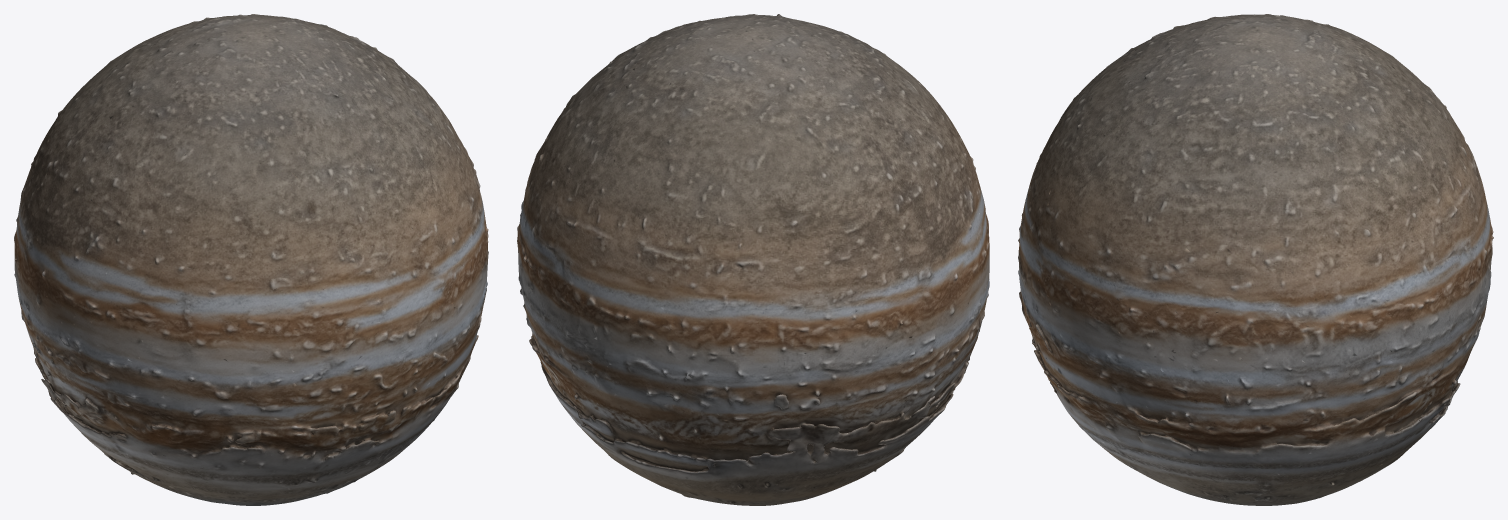
File: jupiter.glb
3 views of the same model, side by side, from view 1: azimuth 30°, elevation 25°; view 2: azimuth 150°, elevation 25°; view 3: azimuth 270°, elevation 25° (orthographic).
Parts seen in each view (by area): view 1: world; view 2: world; view 3: world.
Boxes of the visible parts, <box> form: world: <box>14,14,488,505</box>; world: <box>517,14,989,505</box>; world: <box>1018,14,1493,505</box>.
Bounding box in the file's own units: 0.9587 × 1 × 0.96.
Materials: 1 (1 with a texture image).
